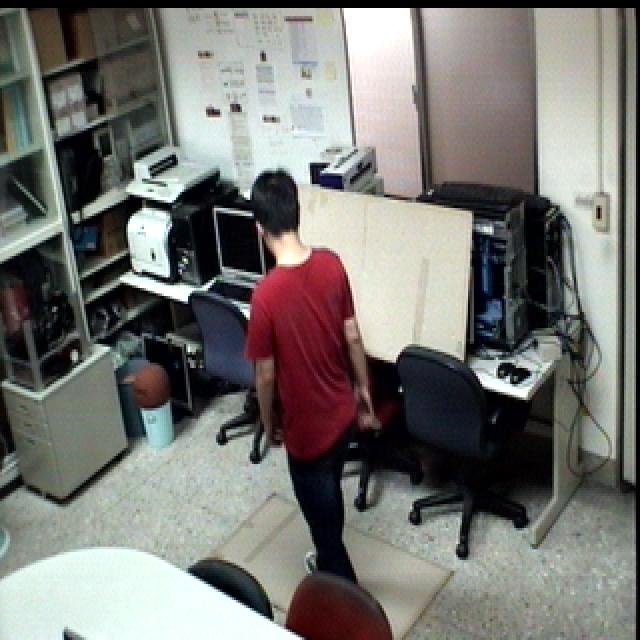stand: (244, 164, 378, 607)
